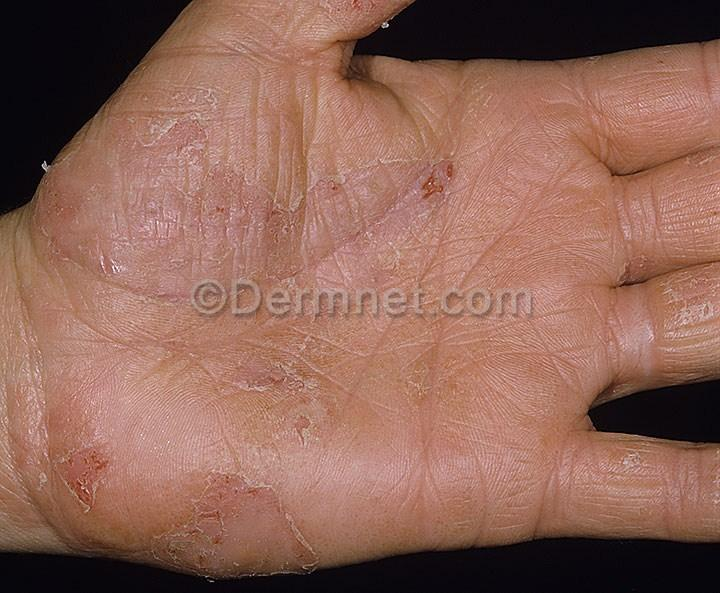Eczema: (103, 91, 493, 282), (166, 448, 338, 593), (213, 319, 396, 437), (5, 399, 136, 537), (405, 319, 559, 409), (292, 0, 412, 41)
